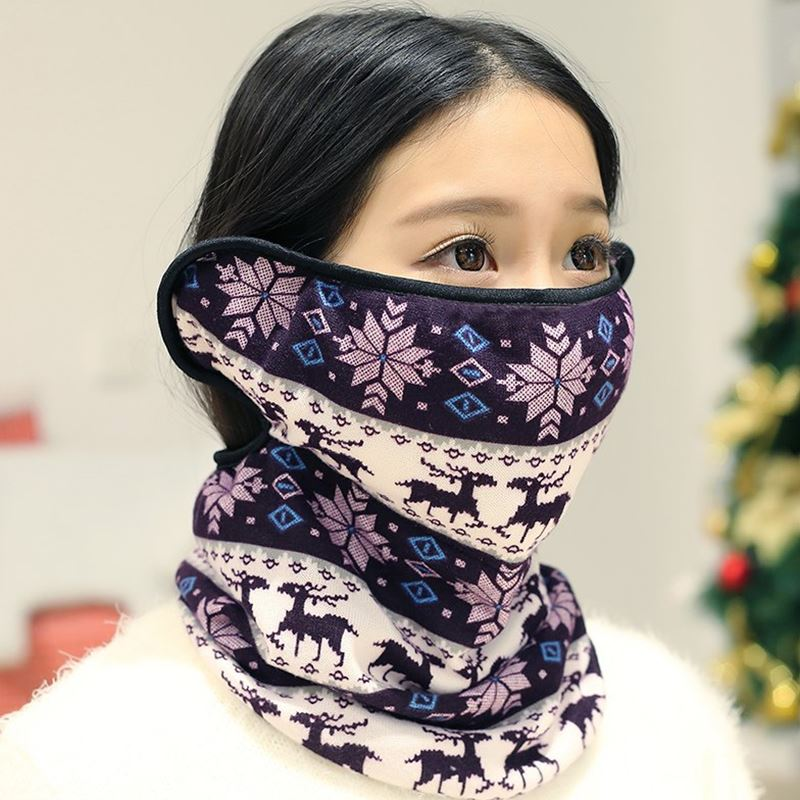face_mask: (342, 104, 620, 467)
